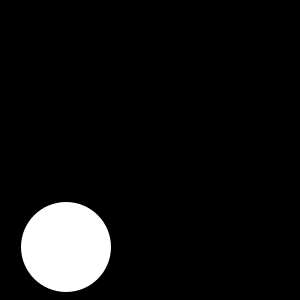rectangle: (21, 202, 111, 292)
